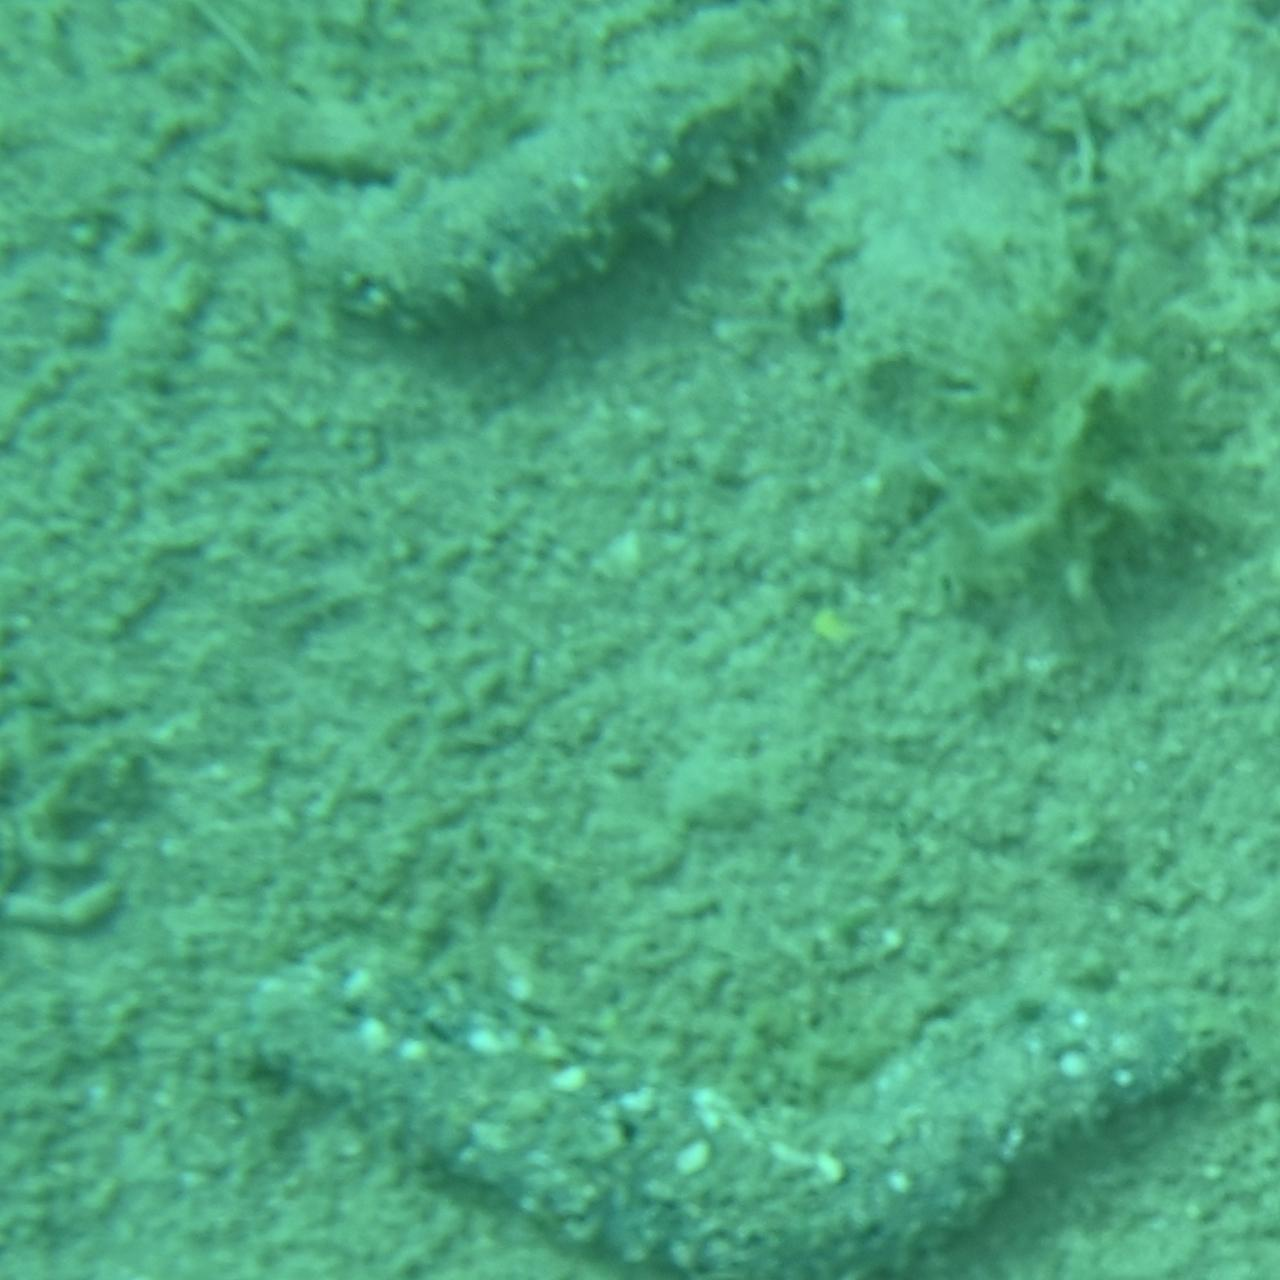Holothuria tubulosa: (218, 928, 1257, 1280), (241, 0, 846, 336)
